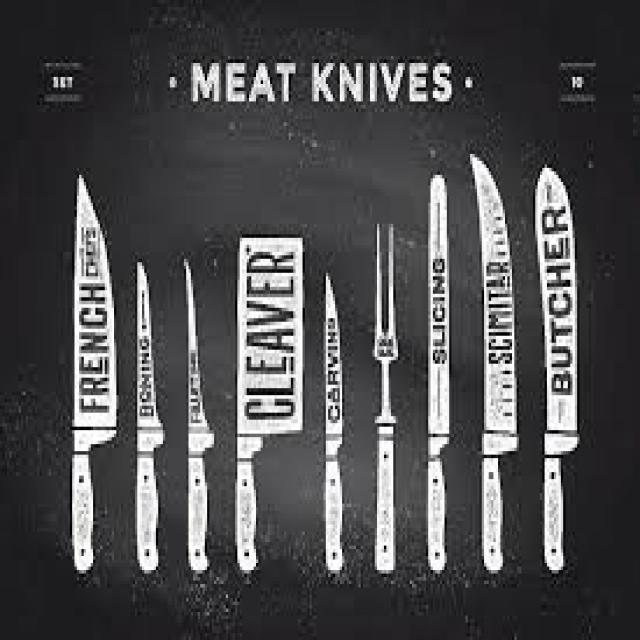Knife: (70, 172, 116, 574), (182, 255, 214, 570), (372, 221, 398, 574), (426, 171, 449, 570)
